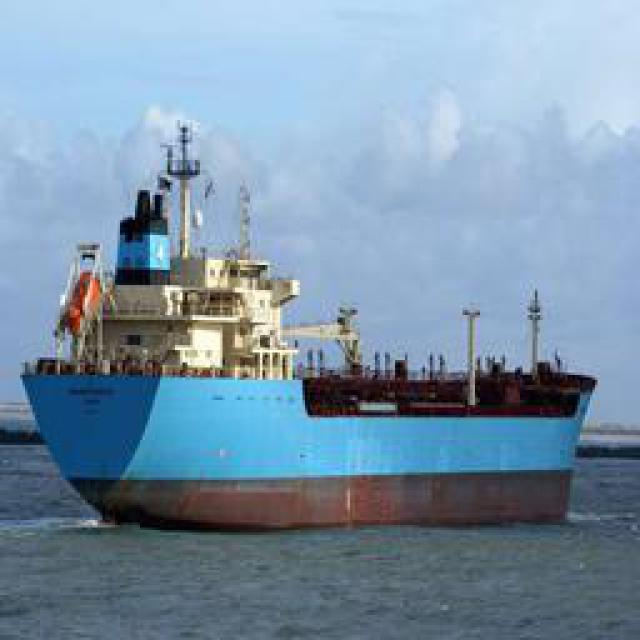Ship: (29, 114, 612, 529)
